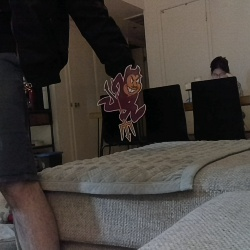sparky: (96, 64, 146, 141)
